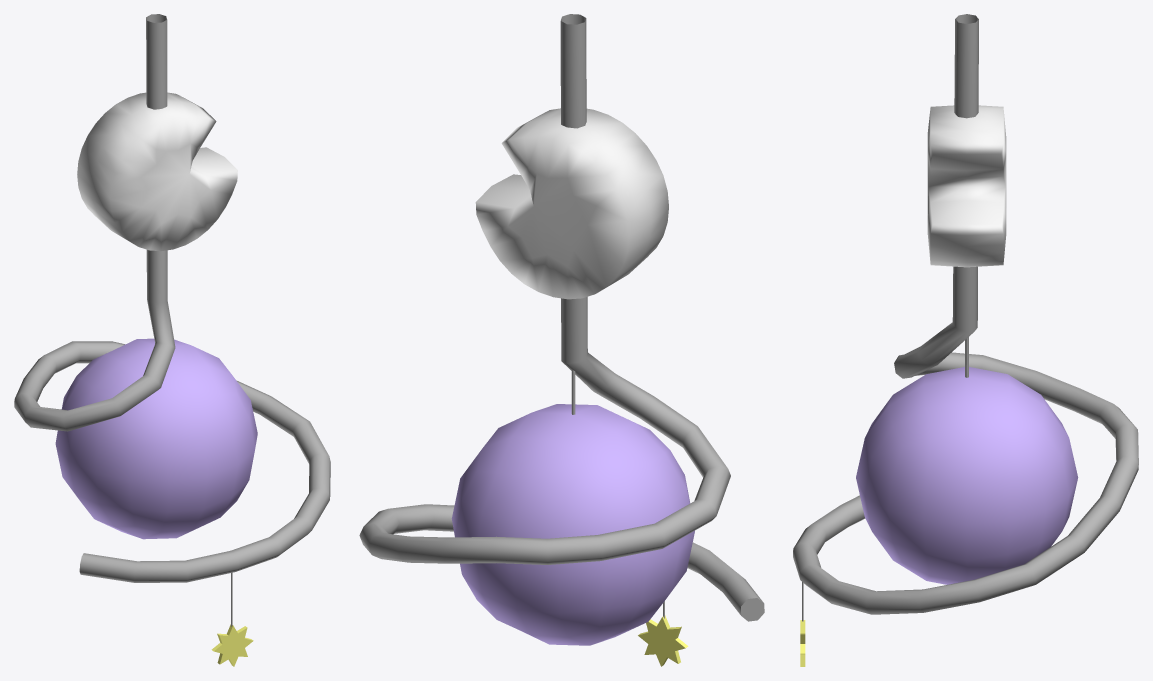
File: Corto.fbx
The picture shows the model from 3 angles, left to right: view 1: azimuth 30°, elevation 25°; view 2: azimuth 150°, elevation 25°; view 3: azimuth 270°, elevation 25°; orthographic projection. The views are drawn at different scales.
Visible parts, largest first — view 1: b_base_ceilingStarLamp_part_01_geo, b_base_ceilingStarLamp_part_05_geo, b_base_ceilingStarLamp_part_02_geo, b_base_ceilingStarLamp_part_06_geo; view 2: b_base_ceilingStarLamp_part_01_geo, b_base_ceilingStarLamp_part_02_geo, b_base_ceilingStarLamp_part_05_geo, b_base_ceilingStarLamp_part_06_geo; view 3: b_base_ceilingStarLamp_part_01_geo, b_base_ceilingStarLamp_part_05_geo, b_base_ceilingStarLamp_part_02_geo.
Part boxes in pixels (left/top/right/bottom): b_base_ceilingStarLamp_part_01_geo: left=55, top=338, right=257, bottom=539; b_base_ceilingStarLamp_part_05_geo: left=14, top=14, right=330, bottom=626; b_base_ceilingStarLamp_part_02_geo: left=77, top=92, right=237, bottom=251; b_base_ceilingStarLamp_part_06_geo: left=211, top=624, right=253, bottom=666; b_base_ceilingStarLamp_part_01_geo: left=451, top=404, right=694, bottom=645; b_base_ceilingStarLamp_part_02_geo: left=475, top=108, right=668, bottom=299; b_base_ceilingStarLamp_part_05_geo: left=359, top=14, right=764, bottom=621; b_base_ceilingStarLamp_part_06_geo: left=638, top=615, right=688, bottom=666; b_base_ceilingStarLamp_part_01_geo: left=856, top=367, right=1078, bottom=584; b_base_ceilingStarLamp_part_05_geo: left=793, top=14, right=1138, bottom=621; b_base_ceilingStarLamp_part_02_geo: left=927, top=105, right=1006, bottom=267.
Bounding box in the file's own units: 46.71 × 92.89 × 45.02.
